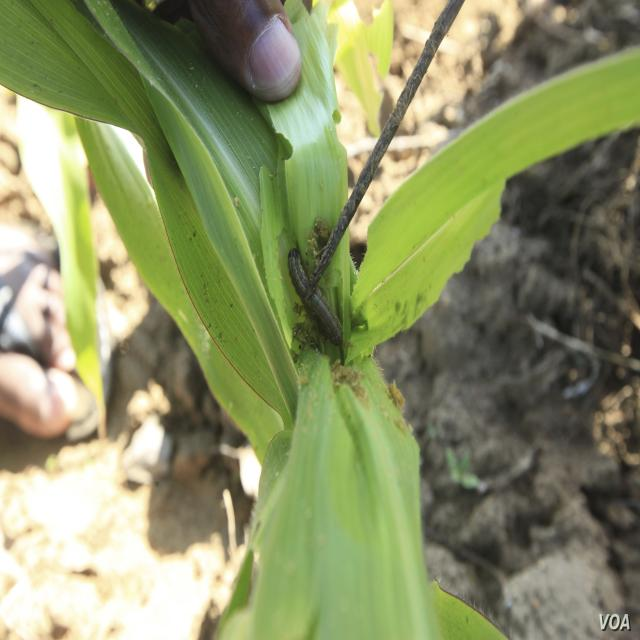Fall-armyworm: (288, 240, 354, 364)
